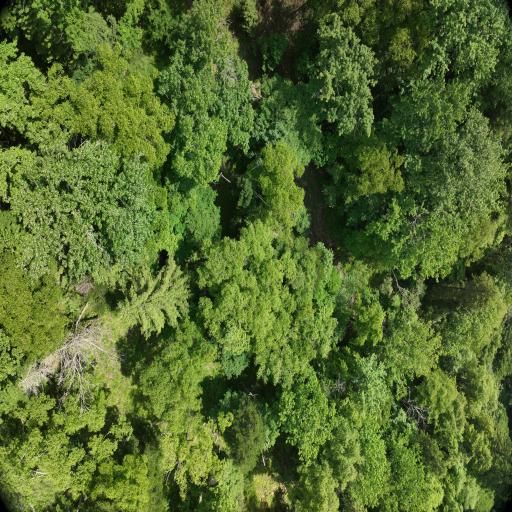dead-tree: (24, 305, 120, 412), (403, 388, 432, 427), (316, 374, 350, 398)
